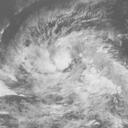cyclone: (25, 30, 104, 95)
